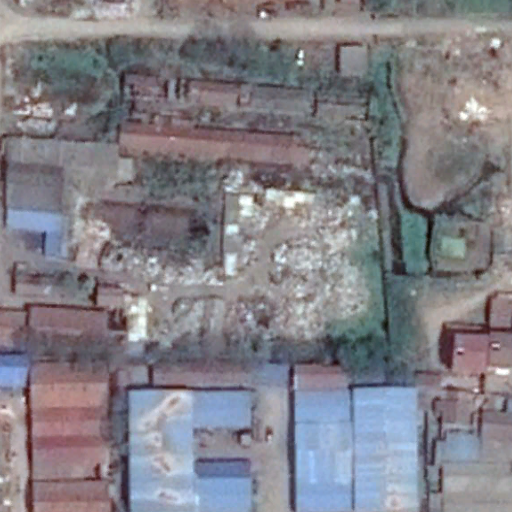msw: (113, 185, 366, 351)
